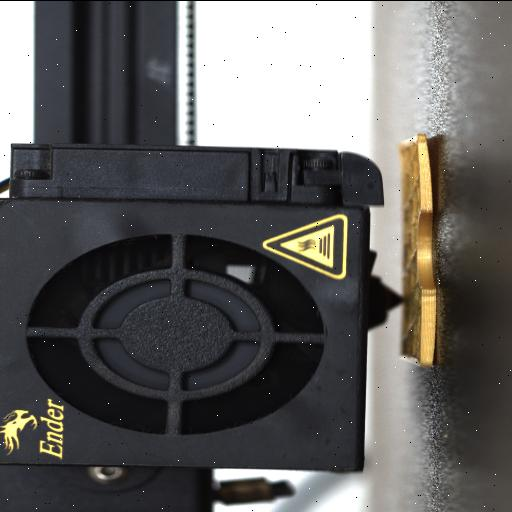warp: (416, 128, 438, 210), (418, 346, 440, 374)
